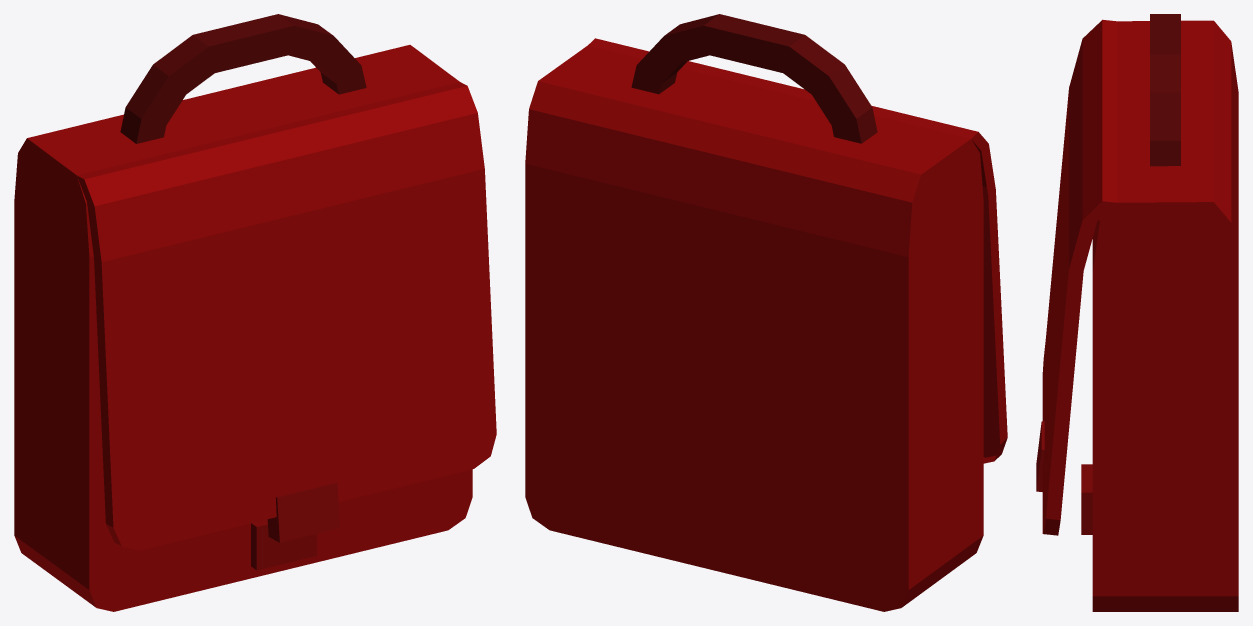
Rendered from SchoolBag.002.glb.
3 renders of one model, left to right at view 1: azimuth 30°, elevation 25°; view 2: azimuth 150°, elevation 25°; view 3: azimuth 270°, elevation 25°, orthographic. The views are drawn at different scales.
Visible parts, largest first — view 1: SchoolBag.002; view 2: SchoolBag.002; view 3: SchoolBag.002.
Part boxes in pixels (box(x1,y1,x2,y2)): SchoolBag.002: box(14, 14, 496, 611); SchoolBag.002: box(525, 14, 1007, 611); SchoolBag.002: box(1036, 14, 1238, 611).
Size of the model in its own units: 1.85 by 2.37 by 0.8697.
